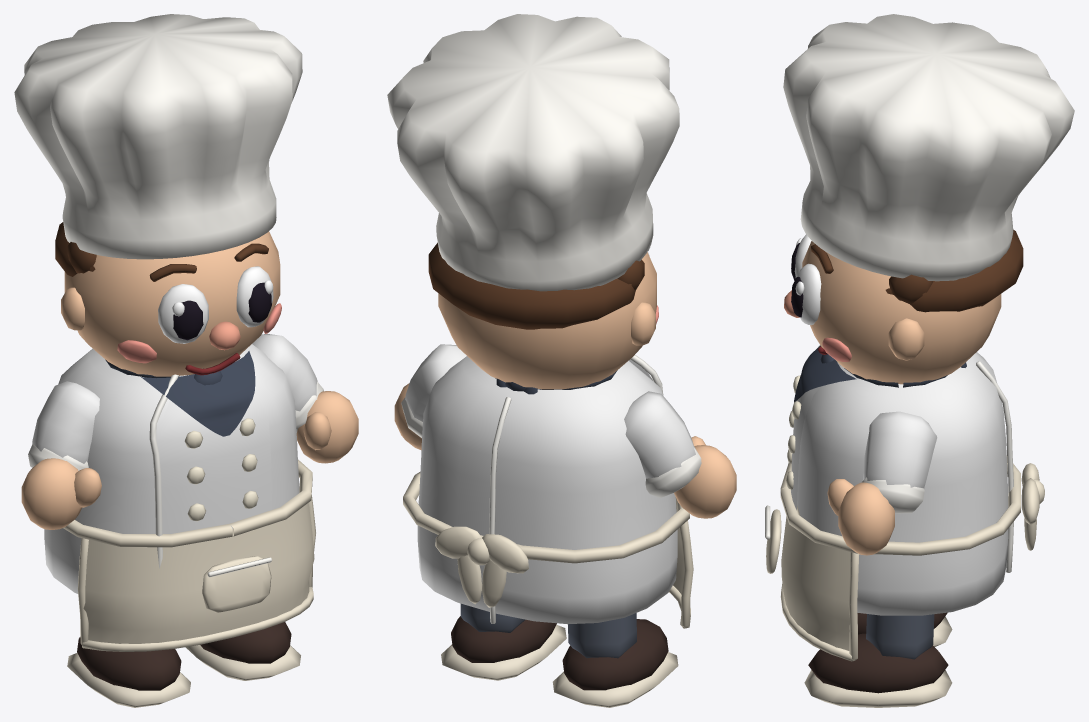
File: chef.glb
3 views of the same model, side by side, from view 1: azimuth 30°, elevation 25°; view 2: azimuth 150°, elevation 25°; view 3: azimuth 270°, elevation 25° (orthographic). The views are drawn at different scales.
Parts seen in each view (by area): view 1: Body, Toque, Head, FootR, Eyes, HandR, FootL, HandL, Brows; view 2: Body, Toque, Head, FootR, FootL, HandR, LegR, LegL, HandL; view 3: Toque, Body, Head, FootL, HandL, LegL, Eyes, FootR.
Part boxes in pixels (x1,y1,x2,y2): Body: (28, 334, 323, 651); Toque: (14, 14, 302, 259); Head: (55, 222, 281, 376); FootR: (67, 637, 190, 707); Eyes: (158, 266, 273, 343); HandR: (21, 458, 101, 529); FootL: (185, 622, 300, 680); HandL: (296, 391, 358, 463); Brows: (149, 243, 268, 281); Body: (401, 344, 701, 628); Toque: (387, 14, 679, 291); Head: (428, 242, 658, 389); FootR: (552, 619, 678, 707); FootL: (441, 616, 566, 680); HandR: (674, 436, 736, 518); LegR: (568, 613, 636, 658); LegL: (460, 603, 525, 632); HandL: (394, 383, 421, 450); Toque: (783, 14, 1074, 281); Body: (765, 345, 1044, 661); Head: (784, 229, 1023, 384); FootL: (804, 633, 952, 707); HandL: (827, 479, 894, 555); LegL: (866, 614, 934, 659); Eyes: (791, 234, 821, 325); FootR: (857, 612, 952, 646).
Bounding box in the file's own units: 0.8104 × 1.45 × 0.6615.
